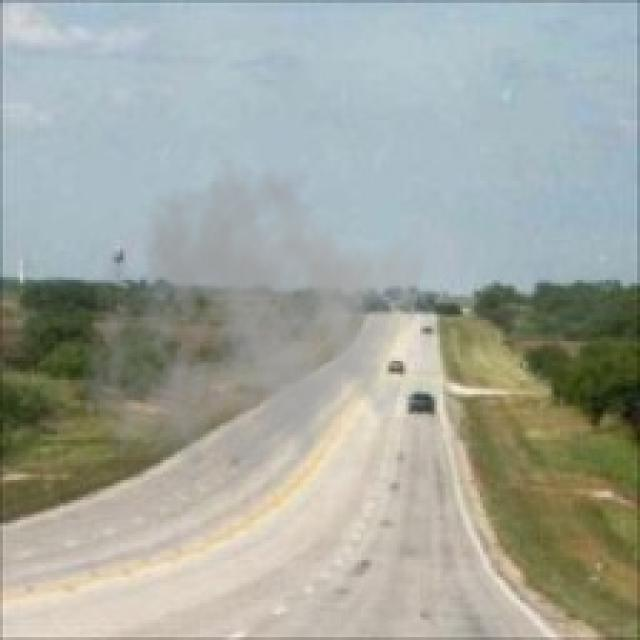smoke: (77, 149, 429, 517)
